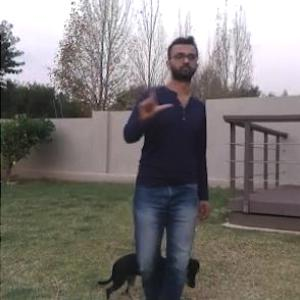land_hand: (133, 73, 174, 120)
